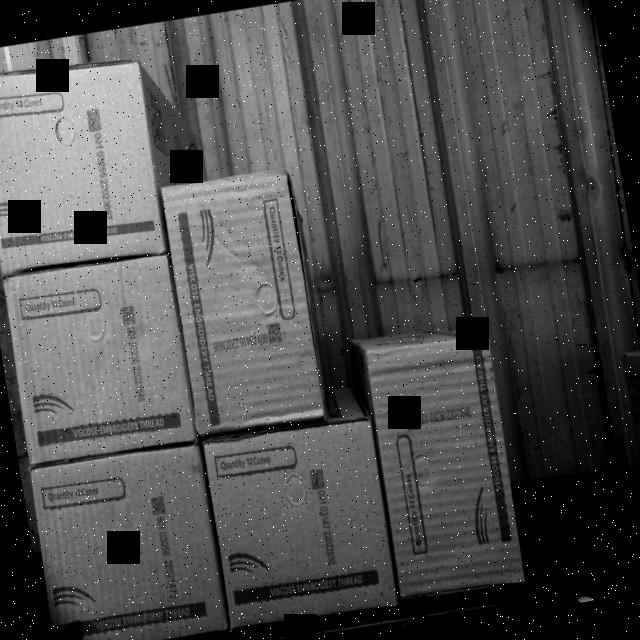box: (364, 330, 530, 607), (162, 167, 327, 437), (0, 251, 196, 466), (204, 418, 401, 628), (20, 443, 228, 640), (0, 51, 163, 273)
